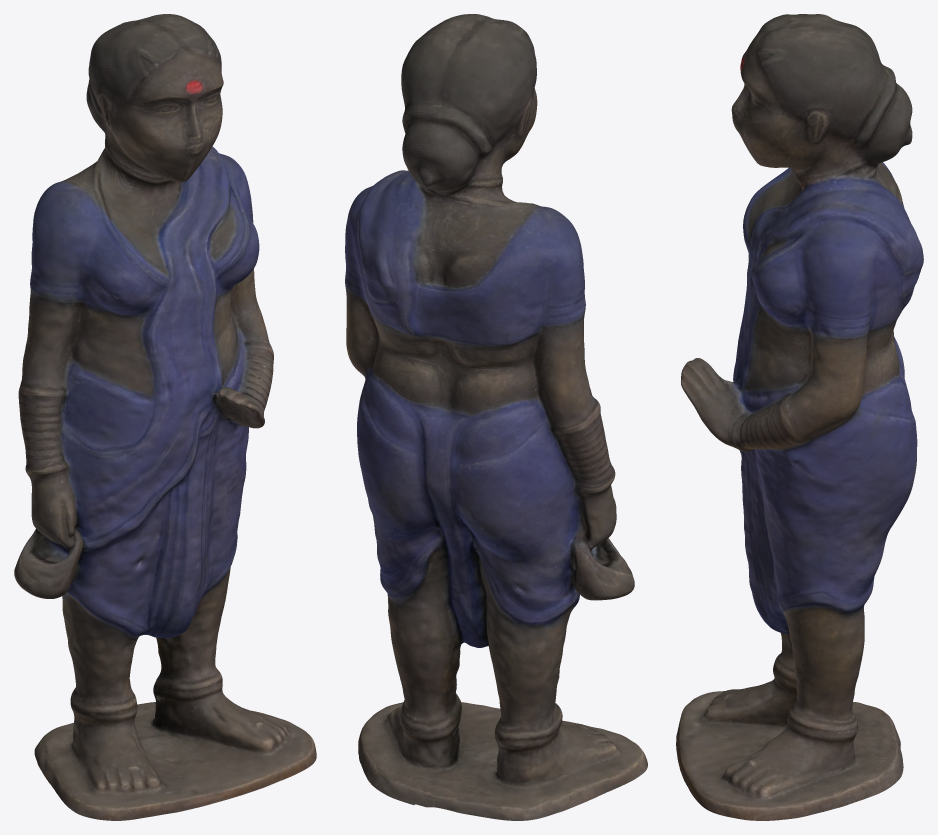
File: female-with-blue-saree.glb
3 views of the same model, side by side, from view 1: azimuth 30°, elevation 25°; view 2: azimuth 150°, elevation 25°; view 3: azimuth 270°, elevation 25° (orthographic). The views are drawn at different scales.
Parts seen in each view (by area): view 1: 04 - Female with blue saree; view 2: 04 - Female with blue saree; view 3: 04 - Female with blue saree.
Boxes of the visible parts, <box> form: 04 - Female with blue saree: <box>14,14,316,820</box>; 04 - Female with blue saree: <box>345,14,647,820</box>; 04 - Female with blue saree: <box>676,14,923,820</box>.
Size of the model in its own units: 18.58 by 47.65 by 14.53.
2 materials, 1 textured.
